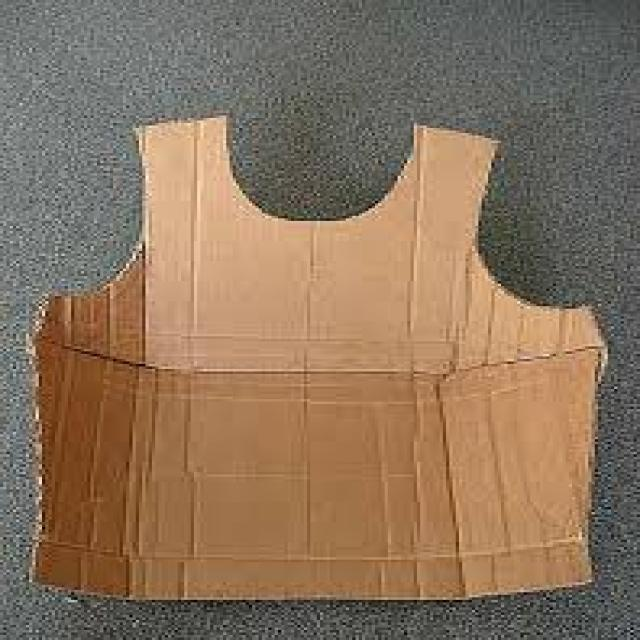Cardboard: (36, 114, 608, 601)
